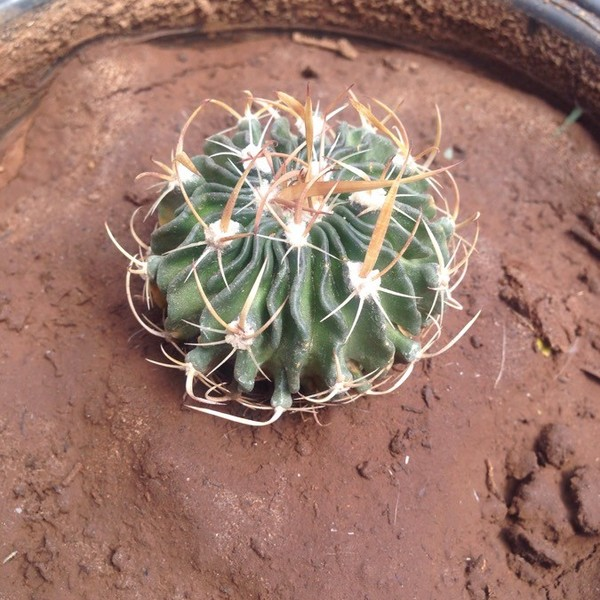obstacle: (108, 77, 495, 444)
